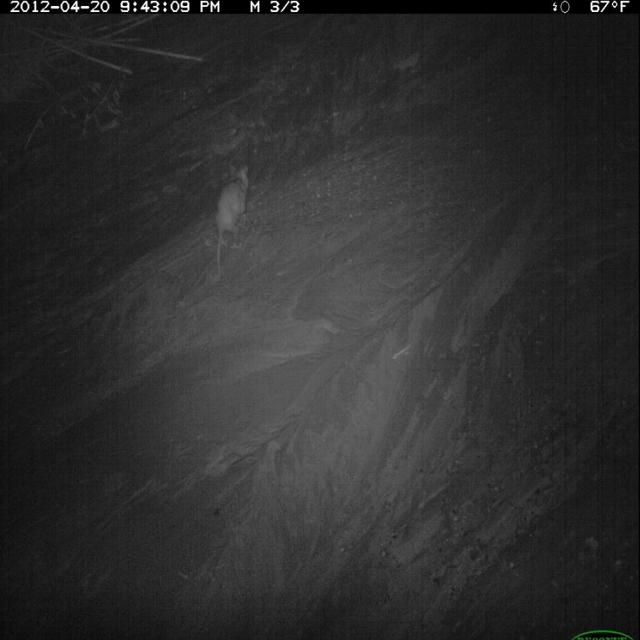opossum: (211, 156, 256, 276)
